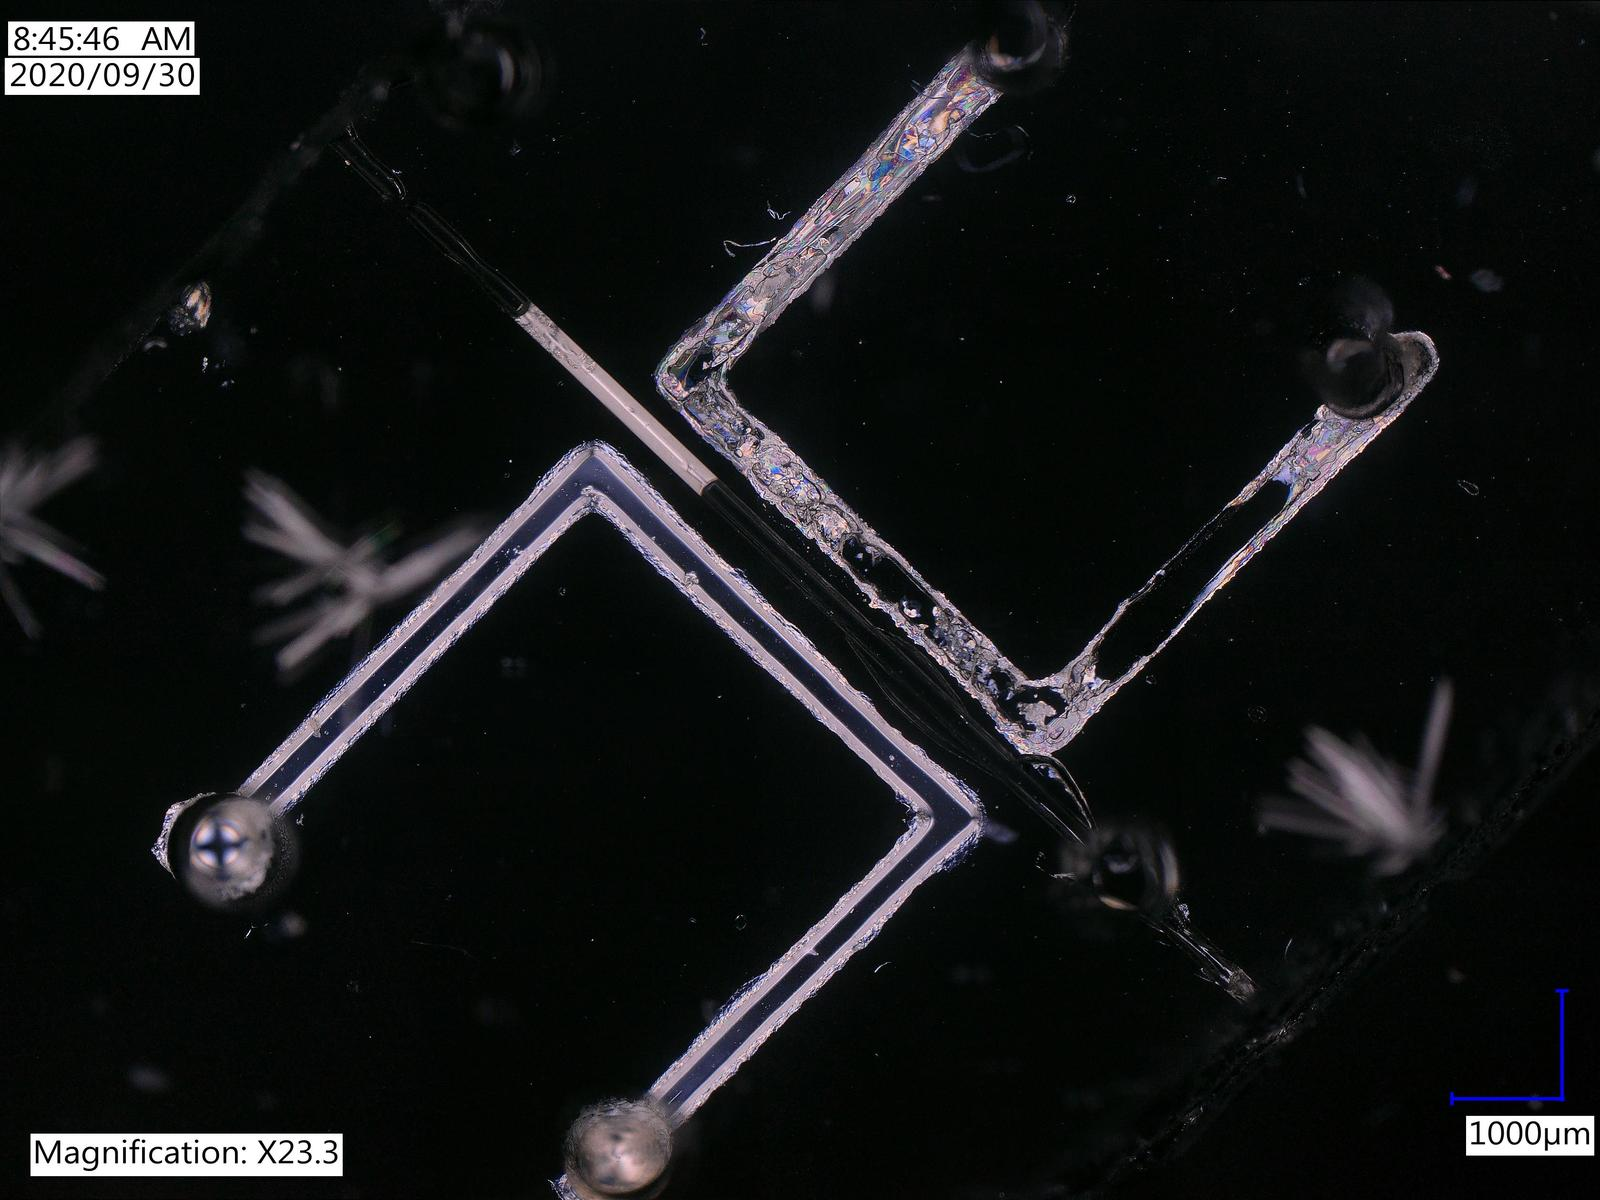sediment: (936, 614, 995, 689), (786, 494, 842, 526), (1070, 650, 1094, 718), (1015, 702, 1057, 722)
